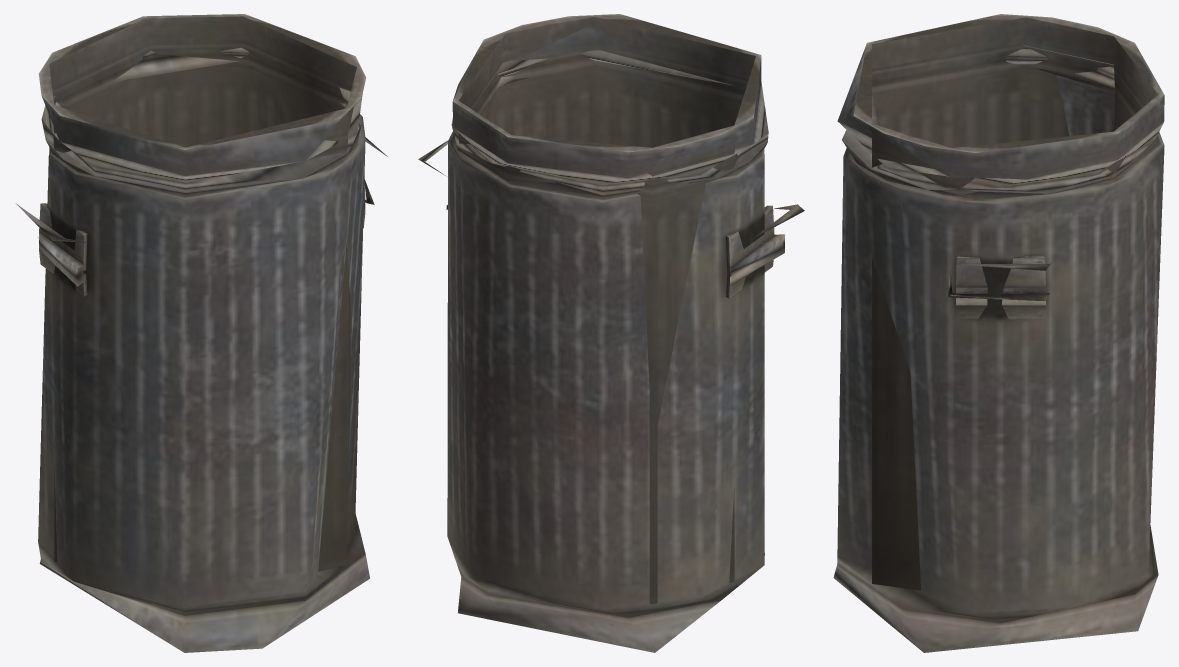
The model's file is bin.glb.
3 renders of one model, left to right at view 1: azimuth 30°, elevation 25°; view 2: azimuth 150°, elevation 25°; view 3: azimuth 270°, elevation 25°, orthographic.
Parts seen in each view (by area): view 1: metal_trash_can_handle_left; view 2: metal_trash_can_handle_left; view 3: metal_trash_can_handle_left.
Part boxes in pixels (left/top/right/bottom): metal_trash_can_handle_left: left=15, top=14, right=387, bottom=652; metal_trash_can_handle_left: left=418, top=14, right=804, bottom=652; metal_trash_can_handle_left: left=833, top=14, right=1164, bottom=652.
Bounding box in the file's own units: 0.6492 × 0.9062 × 0.5382.
Materials: 1 (1 with a texture image).
